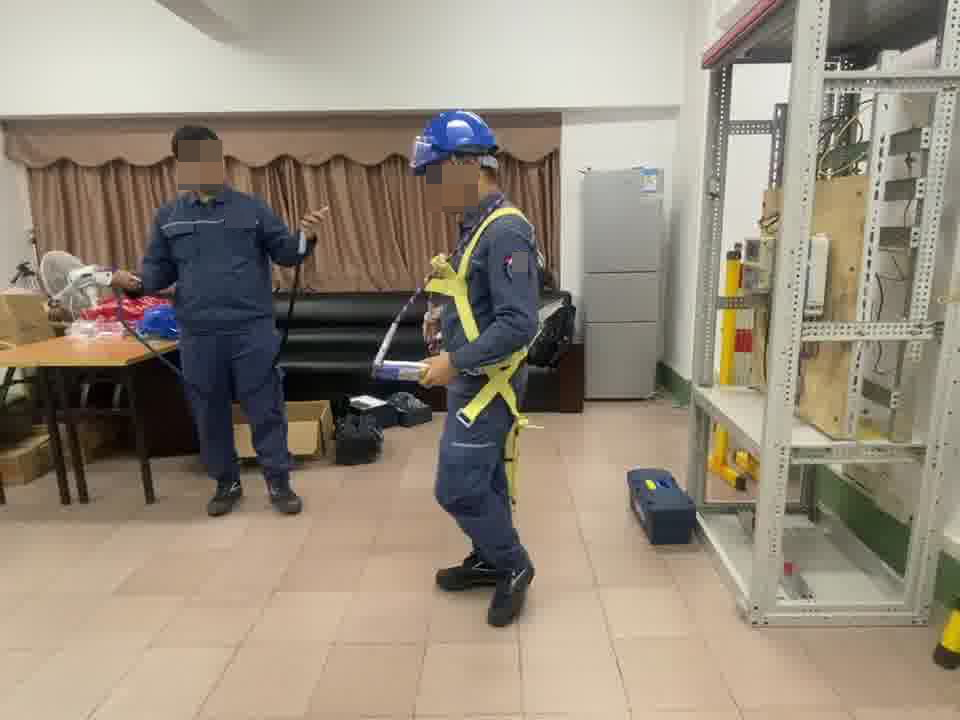downsuit: (180, 336, 297, 483), (435, 373, 528, 549)
halt: (410, 108, 502, 197), (170, 124, 229, 190)
hand: (419, 352, 454, 386), (300, 206, 326, 237), (112, 267, 140, 292)
inear: (448, 150, 485, 196)
person: (112, 122, 315, 511), (409, 105, 553, 617)
safebelt: (422, 201, 538, 501)
sleeve: (502, 250, 530, 290)
unhalt: (170, 125, 228, 192)
upsuit: (142, 187, 310, 324), (448, 197, 546, 365)
